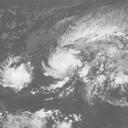cyclone: (44, 45, 81, 79)
